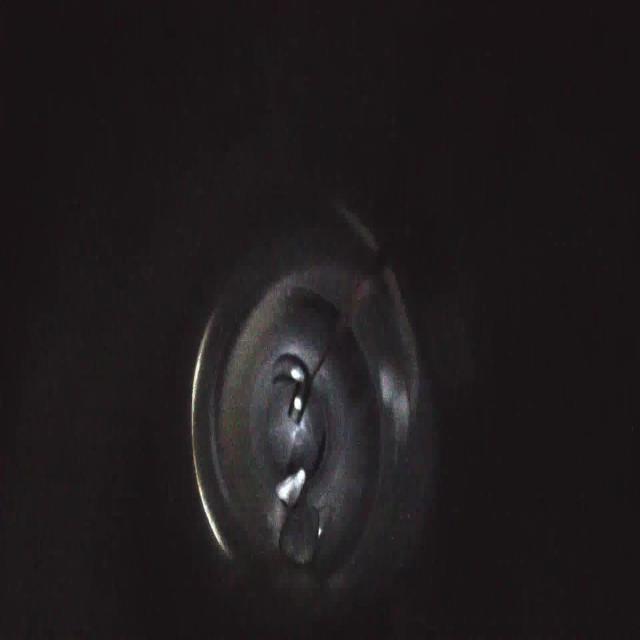impurity: (278, 502, 321, 568), (274, 465, 310, 505)
